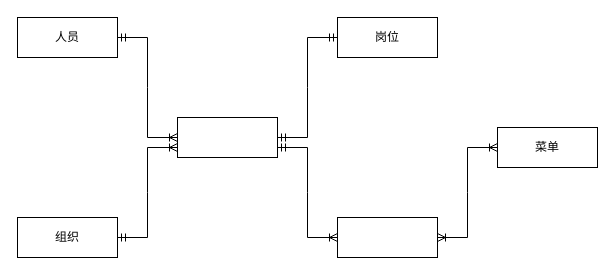
This 615x275 diagram has some shape labels left out. Here are the shapes that lost their labels. From the top down, the centre of each, then its label:
At (227,137): "账号".
At (387,237): "角色".
